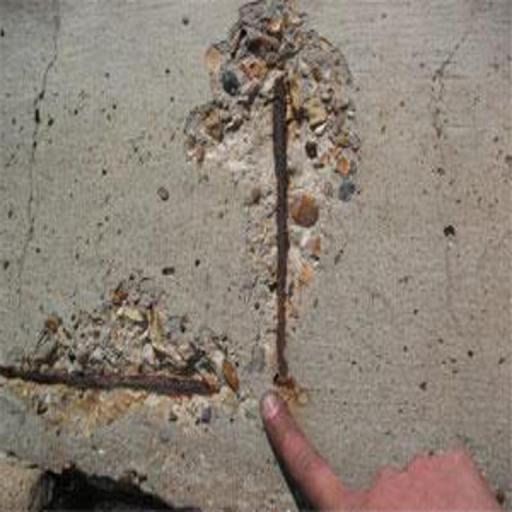spalling: (1, 3, 369, 440)
